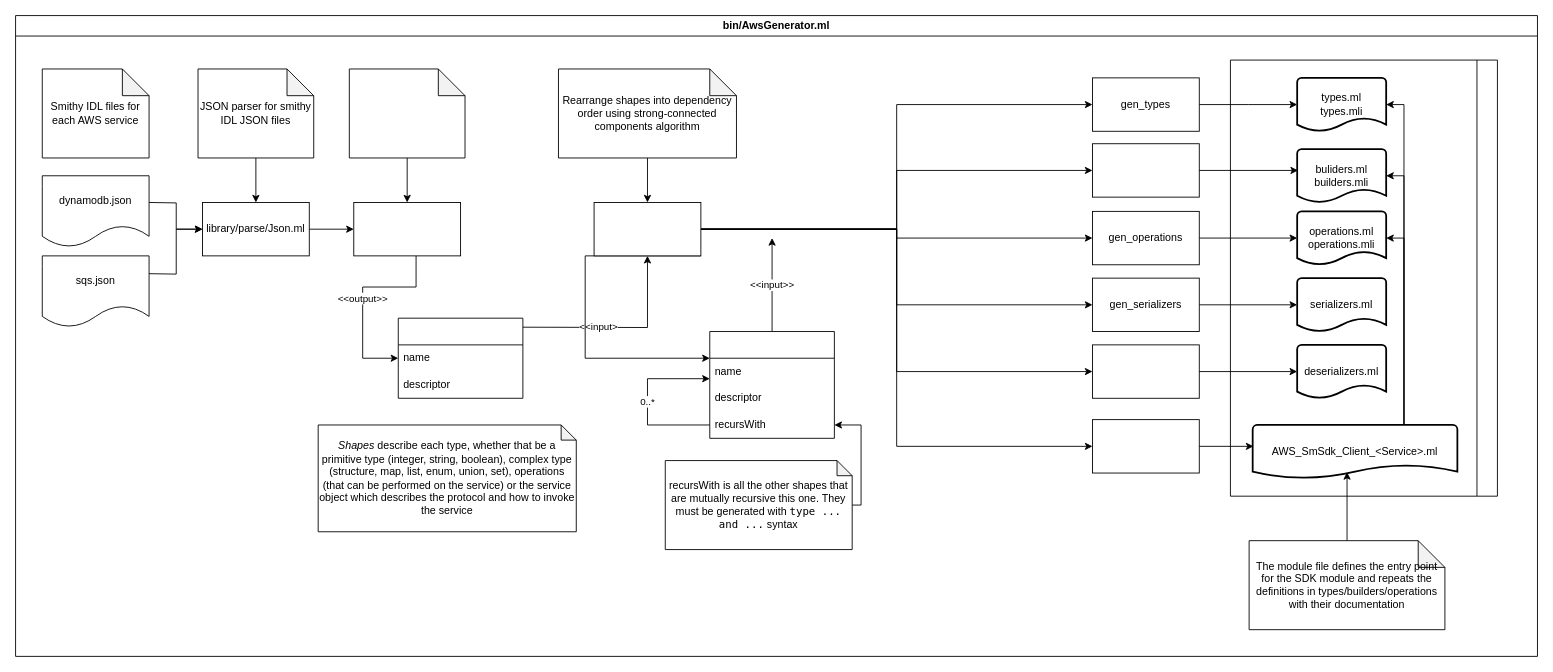
Some shapes in this 1553 by 672 pixel diagram are drawn without their labels. The box of each missing label's shape, as (x1, y1, x2, y2) in pixels:
convert Smithy json into shape definitions with their traits: (348, 68, 465, 158)
gen_builders: (1092, 143, 1199, 197)
gen_deserializers: (1092, 344, 1199, 398)
gen_module: (1092, 419, 1199, 473)
library/ast/Smithy.ml: (353, 202, 461, 256)
Organize: (593, 202, 701, 256)
SDK: (1230, 59, 1497, 496)
Shape: (397, 317, 523, 398)
ShapeWithTarget: (709, 331, 834, 438)
